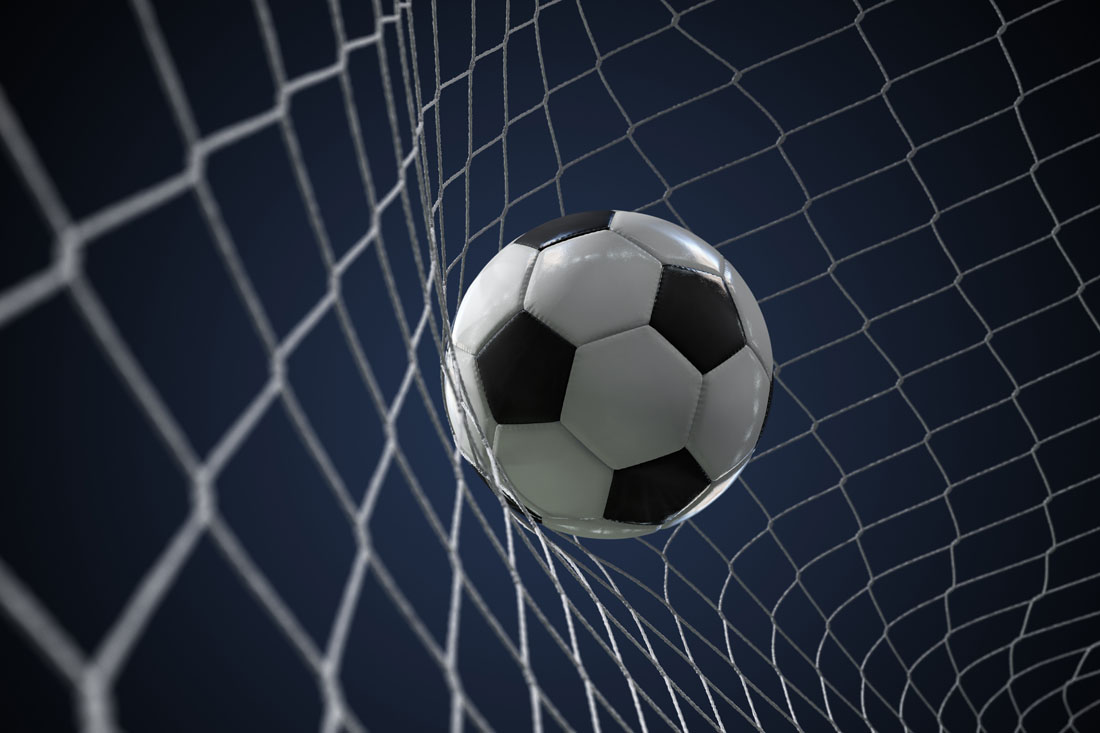ball: (444, 208, 774, 541)
